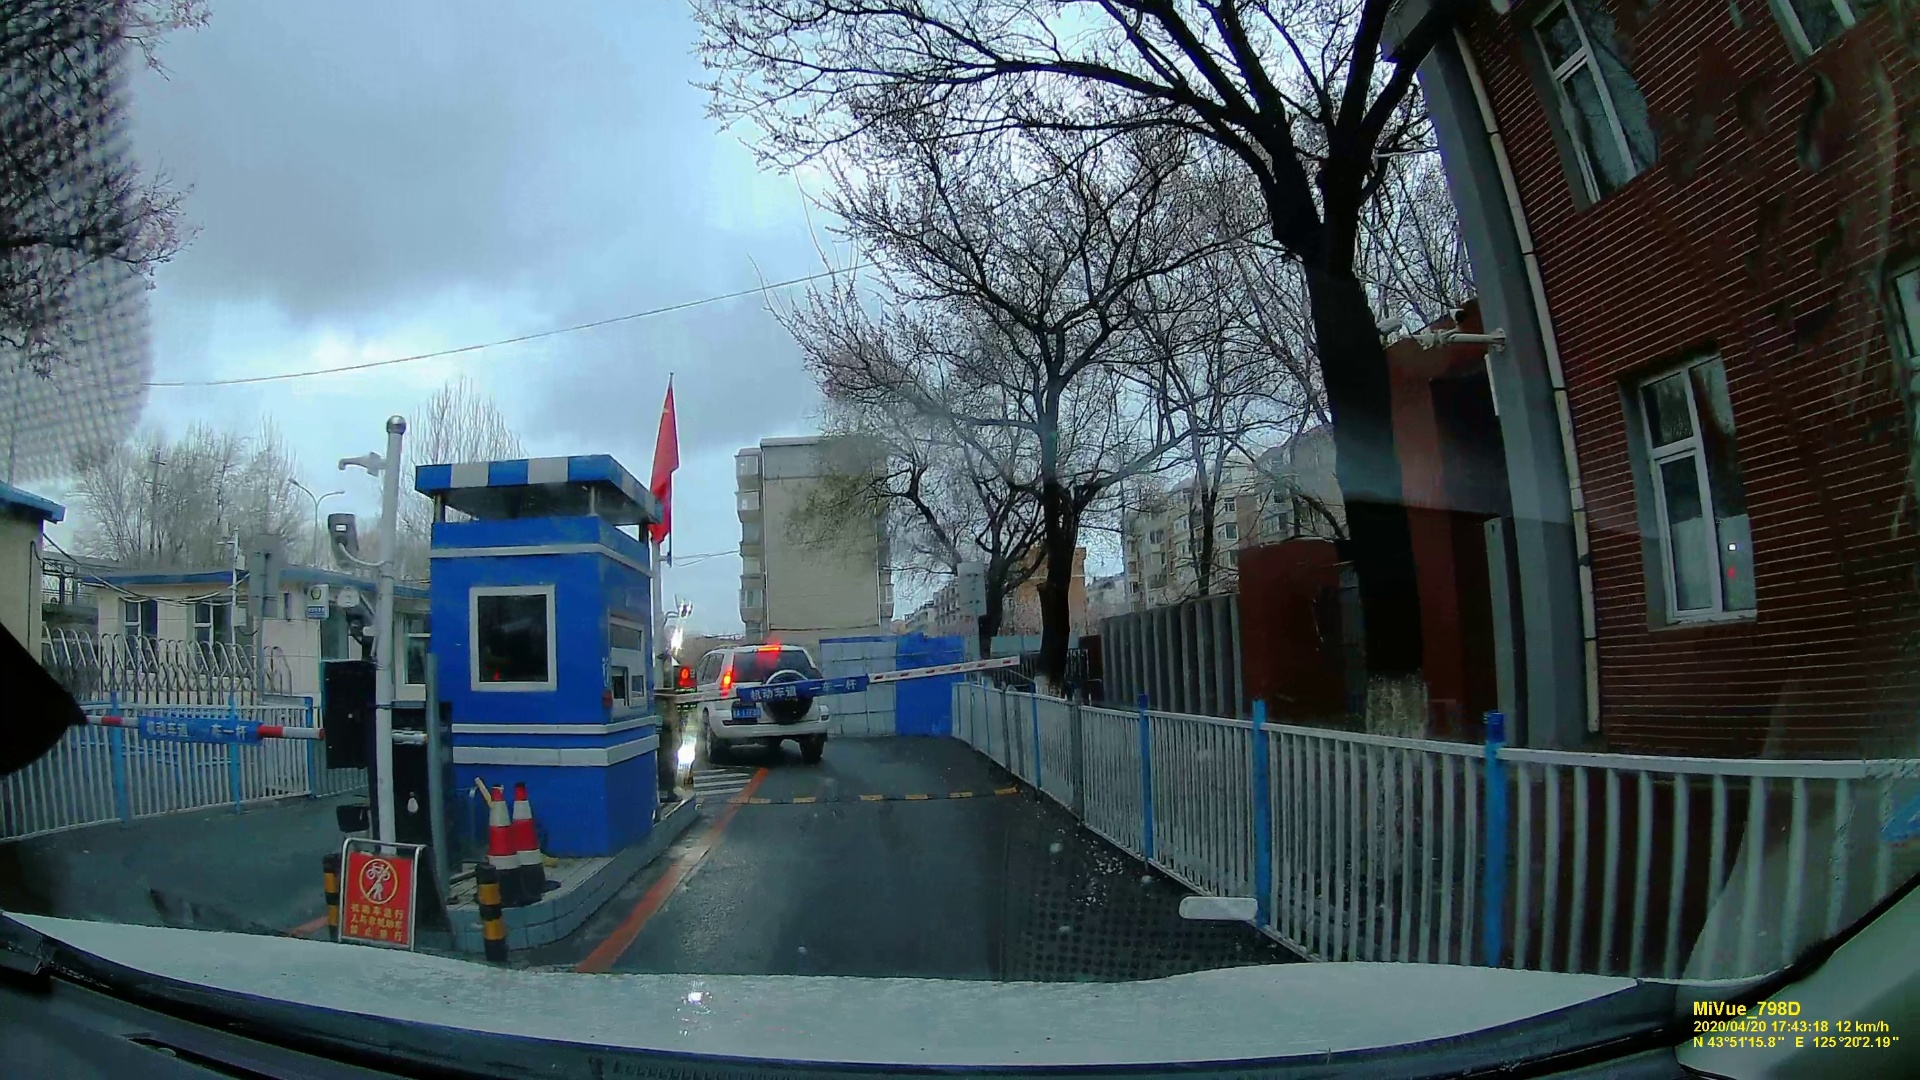traffic_sign: (323, 843, 421, 945)
vehicle: (684, 637, 828, 767)
